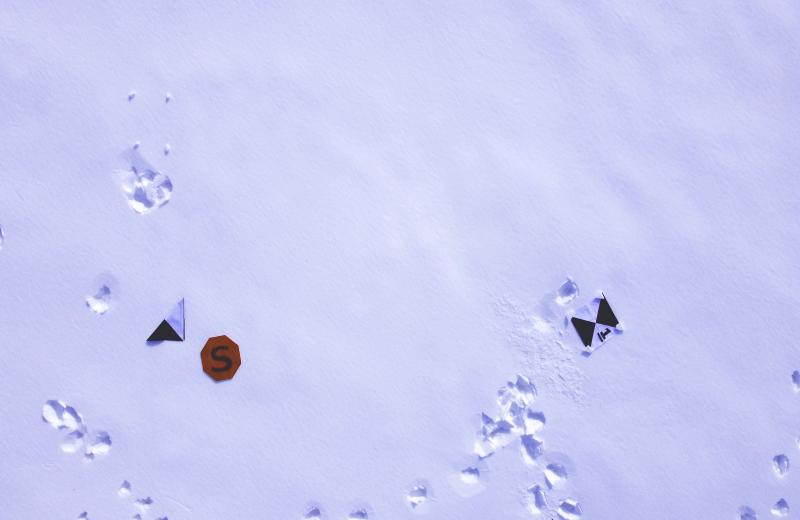Octagon: (199, 332, 242, 385)
